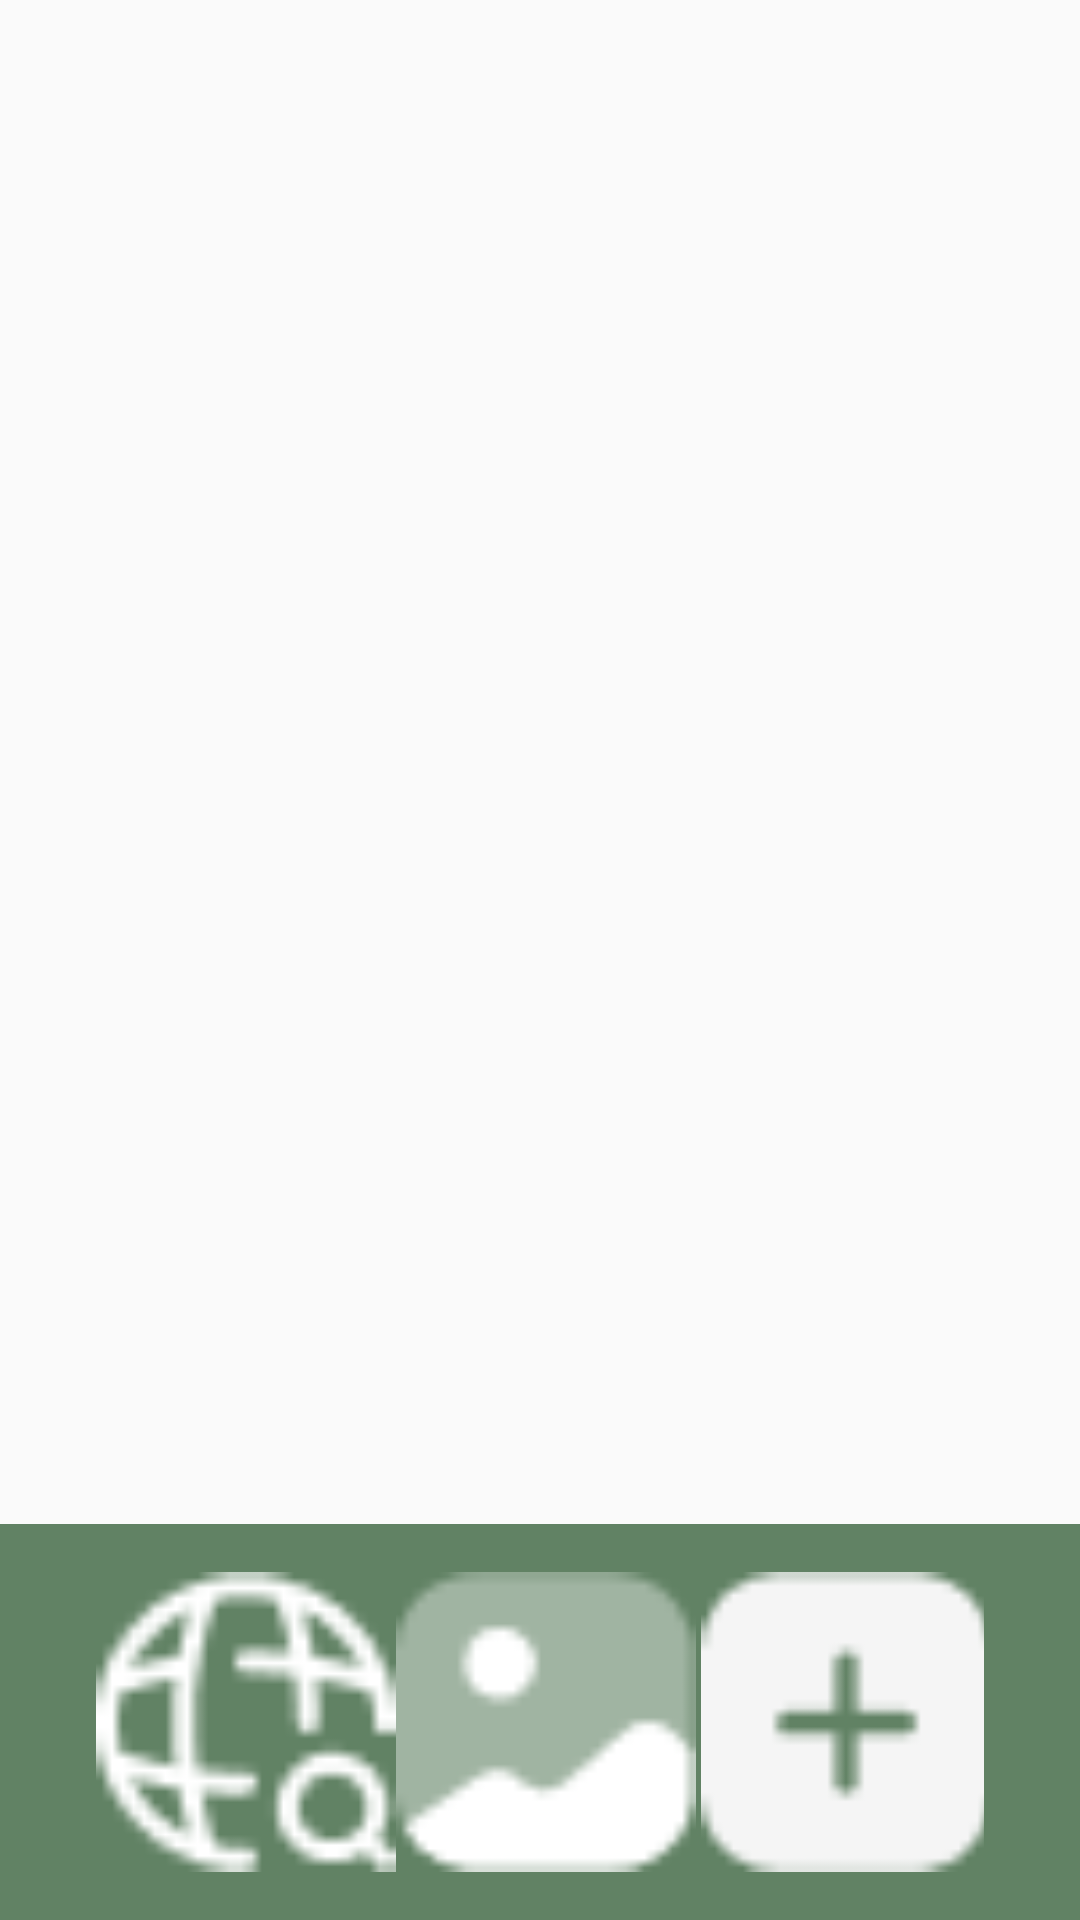

Screen size 1080×1920. Icon name, then its center in pixels as point (x, y):
add square: point (842, 1722)
gallery: point (546, 1722)
global search: point (246, 1722)
